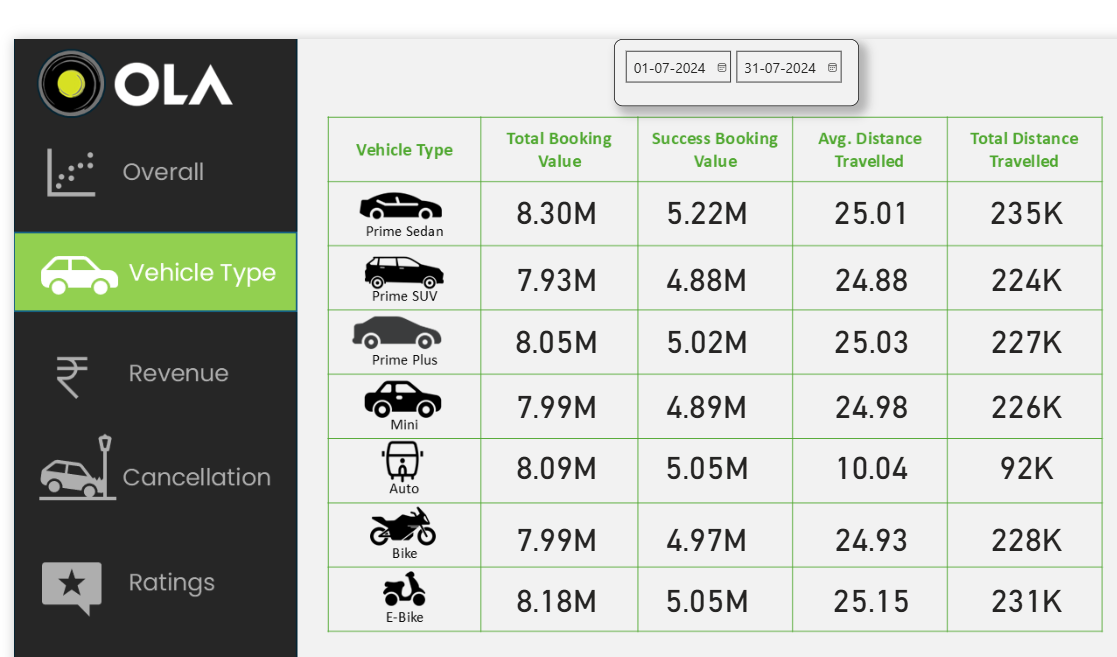

Layout of this report page (visuals, bound fields, positions):
{"tool":"powerbi","page":{"name":"VEHICLE TYPE","canvas":[1280,720],"ordinal":1},"visuals":[{"type":"actionButton","box":[0,326.6,323.8,108.4],"z":0},{"type":"actionButton","box":[0,446,323.8,108.4],"z":1000},{"type":"actionButton","box":[0,569.5,323.8,108.4],"z":2000},{"type":"actionButton","box":[0,98.8,323.8,108.4],"z":3000},{"type":"card","fields":{"Values":["Sum(booking-july.Booking_Value)"]},"box":[554.4,314.2,131.7,57.6],"z":4000},{"type":"card","fields":{"Values":["Sum(booking-july.Booking_Value)"]},"box":[554.4,388.3,131.7,57.6],"z":5000},{"type":"card","fields":{"Values":["Sum(booking-july.Booking_Value)"]},"box":[554.4,458.3,131.7,57.6],"z":6000},{"type":"card","fields":{"Values":["Sum(booking-july.Booking_Value)"]},"box":[554.4,540.7,131.7,57.6],"z":7000},{"type":"card","fields":{"Values":["Sum(booking-july.Booking_Value)"]},"box":[554.4,610.6,131.7,57.6],"z":8000},{"type":"card","fields":{"Values":["Sum(booking-july.Booking_Value)"]},"box":[554.4,167.4,131.7,57.6],"z":9000},{"type":"card","fields":{"Values":["Sum(booking-july.Booking_Value)"]},"box":[554.4,242.9,131.7,57.6],"z":10000},{"type":"card","fields":{"Values":["Sum(booking-july.Booking_Value)"]},"box":[725.9,167.4,131.7,57.6],"z":11000},{"type":"card","fields":{"Values":["Sum(booking-july.Booking_Value)"]},"box":[725.9,242.9,131.7,57.6],"z":12000},{"type":"card","fields":{"Values":["Sum(booking-july.Booking_Value)"]},"box":[725.9,314.2,131.7,57.6],"z":13000},{"type":"card","fields":{"Values":["Sum(booking-july.Booking_Value)"]},"box":[725.9,388.3,131.7,57.6],"z":14000},{"type":"card","fields":{"Values":["Sum(booking-july.Booking_Value)"]},"box":[725.9,458.3,131.7,57.6],"z":15000},{"type":"card","fields":{"Values":["Sum(booking-july.Booking_Value)"]},"box":[725.9,540.7,131.7,57.6],"z":16000},{"type":"card","fields":{"Values":["Sum(booking-july.Booking_Value)"]},"box":[725.9,610.6,131.7,57.6],"z":17000},{"type":"card","fields":{"Values":["Avg(booking-july.Ride_Distance)"]},"box":[913.9,167.4,131.7,57.6],"z":18000},{"type":"card","fields":{"Values":["Avg(booking-july.Ride_Distance)"]},"box":[913.9,242.9,131.7,57.6],"z":19000},{"type":"card","fields":{"Values":["Avg(booking-july.Ride_Distance)"]},"box":[913.9,314.2,131.7,57.6],"z":20000},{"type":"card","fields":{"Values":["Avg(booking-july.Ride_Distance)"]},"box":[913.9,388.3,131.7,57.6],"z":21000},{"type":"card","fields":{"Values":["Avg(booking-july.Ride_Distance)"]},"box":[913.9,458.3,131.7,57.6],"z":22000},{"type":"card","fields":{"Values":["Avg(booking-july.Ride_Distance)"]},"box":[913.9,540.7,131.7,57.6],"z":23000},{"type":"card","fields":{"Values":["Avg(booking-july.Ride_Distance)"]},"box":[913.9,610.6,131.7,57.6],"z":24000},{"type":"card","fields":{"Values":["Sum(booking-july.Ride_Distance)"]},"box":[1090.9,167.4,131.7,57.6],"z":25000},{"type":"card","fields":{"Values":["Sum(booking-july.Ride_Distance)"]},"box":[1090.9,242.9,131.7,57.6],"z":26000},{"type":"card","fields":{"Values":["Sum(booking-july.Ride_Distance)"]},"box":[1090.9,314.2,131.7,57.6],"z":27000},{"type":"card","fields":{"Values":["Sum(booking-july.Ride_Distance)"]},"box":[1090.9,388.3,131.7,57.6],"z":28000},{"type":"card","fields":{"Values":["Sum(booking-july.Ride_Distance)"]},"box":[1090.9,458.3,131.7,57.6],"z":29000},{"type":"card","fields":{"Values":["Sum(booking-july.Ride_Distance)"]},"box":[1090.9,540.7,131.7,57.6],"z":30000},{"type":"card","fields":{"Values":["Sum(booking-july.Ride_Distance)"]},"box":[1090.9,610.6,131.7,57.6],"z":31000},{"type":"slicer","title":"DATE","fields":{"Values":["booking-july.Date"]},"box":[686.1,0,279.9,76.8],"z":32000}]}

Visuals, with their boxes on the page's 1280x720 design canvas (x1, y1, x2, y2). These are canvas units, not pixel positions in the 1117x657 screenshot, which may show the page scaled, cropped or inside an application window:
actionButton: box=[0, 327, 324, 435]
actionButton: box=[0, 446, 324, 554]
actionButton: box=[0, 570, 324, 678]
actionButton: box=[0, 99, 324, 207]
card - Sum(booking-july.Booking_Value): box=[554, 314, 686, 372]
card - Sum(booking-july.Booking_Value): box=[554, 388, 686, 446]
card - Sum(booking-july.Booking_Value): box=[554, 458, 686, 516]
card - Sum(booking-july.Booking_Value): box=[554, 541, 686, 598]
card - Sum(booking-july.Booking_Value): box=[554, 611, 686, 668]
card - Sum(booking-july.Booking_Value): box=[554, 167, 686, 225]
card - Sum(booking-july.Booking_Value): box=[554, 243, 686, 300]
card - Sum(booking-july.Booking_Value): box=[726, 167, 858, 225]
card - Sum(booking-july.Booking_Value): box=[726, 243, 858, 300]
card - Sum(booking-july.Booking_Value): box=[726, 314, 858, 372]
card - Sum(booking-july.Booking_Value): box=[726, 388, 858, 446]
card - Sum(booking-july.Booking_Value): box=[726, 458, 858, 516]
card - Sum(booking-july.Booking_Value): box=[726, 541, 858, 598]
card - Sum(booking-july.Booking_Value): box=[726, 611, 858, 668]
card - Avg(booking-july.Ride_Distance): box=[914, 167, 1046, 225]
card - Avg(booking-july.Ride_Distance): box=[914, 243, 1046, 300]
card - Avg(booking-july.Ride_Distance): box=[914, 314, 1046, 372]
card - Avg(booking-july.Ride_Distance): box=[914, 388, 1046, 446]
card - Avg(booking-july.Ride_Distance): box=[914, 458, 1046, 516]
card - Avg(booking-july.Ride_Distance): box=[914, 541, 1046, 598]
card - Avg(booking-july.Ride_Distance): box=[914, 611, 1046, 668]
card - Sum(booking-july.Ride_Distance): box=[1091, 167, 1223, 225]
card - Sum(booking-july.Ride_Distance): box=[1091, 243, 1223, 300]
card - Sum(booking-july.Ride_Distance): box=[1091, 314, 1223, 372]
card - Sum(booking-july.Ride_Distance): box=[1091, 388, 1223, 446]
card - Sum(booking-july.Ride_Distance): box=[1091, 458, 1223, 516]
card - Sum(booking-july.Ride_Distance): box=[1091, 541, 1223, 598]
card - Sum(booking-july.Ride_Distance): box=[1091, 611, 1223, 668]
"DATE" slicer: box=[686, 0, 966, 77]
